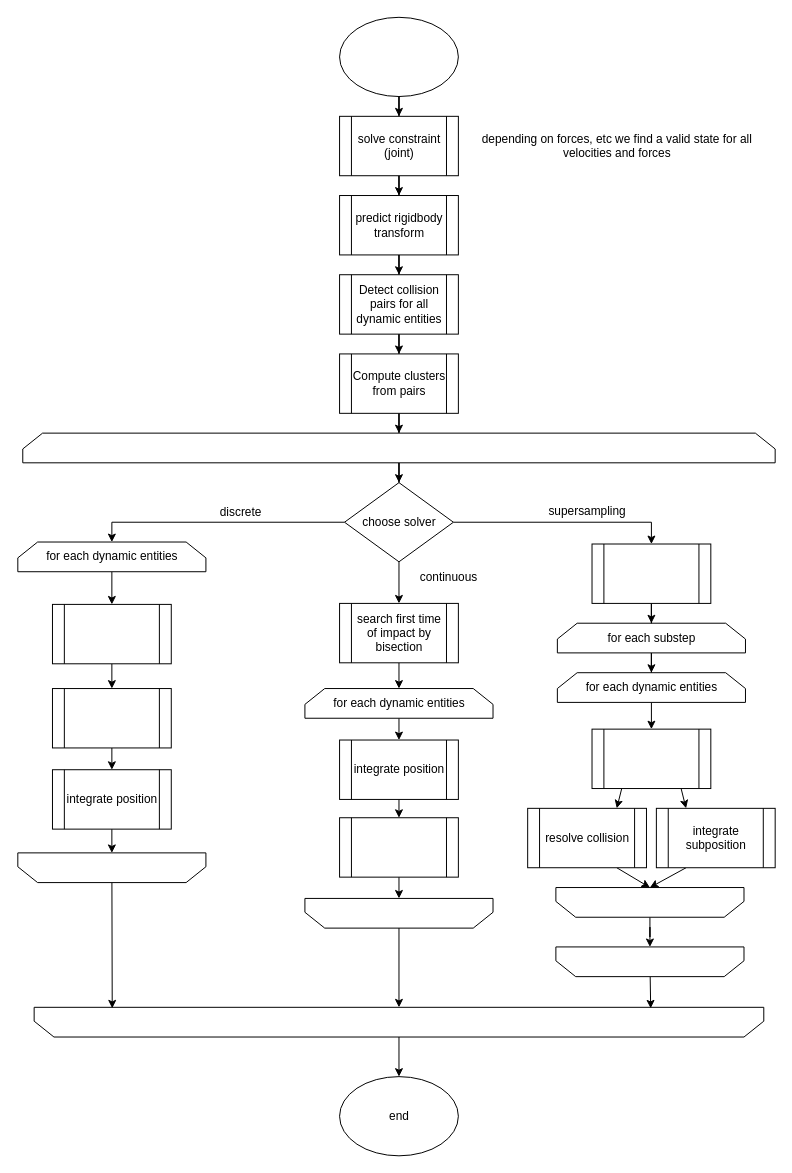
Image size: 792x1173. Some labels were removed from this diagram. Here are the shapes that lost their labels. From the top down, the centre of each, then its label:
At (398,56): "begin".
At (398,447): "for each cluster".
At (651,573): "compute number of substep".
At (111,633): "compute interpenetration".
At (111,718): "resolve interpenetration".
At (651,758): "predict submovement".
At (398,847): "resolve collision for colliding entities".
